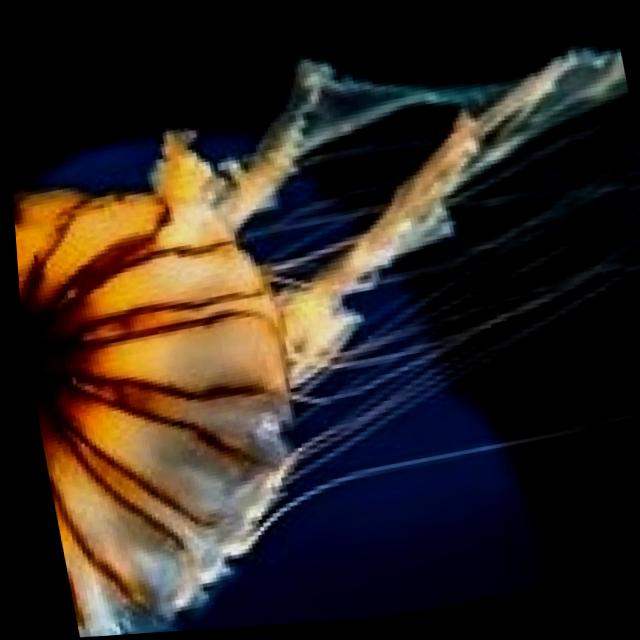Jellyfish: (2, 3, 640, 640)
